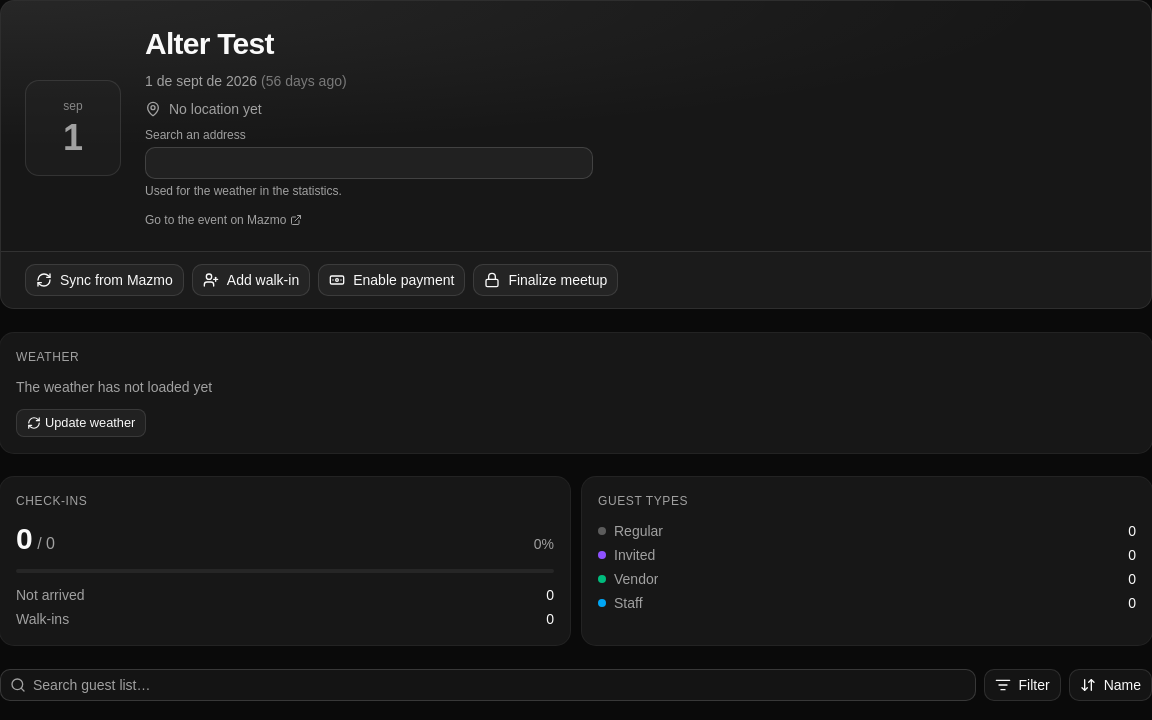
Scenario: MeetupDetailPage walk-in picker › searches the directory the same way as the Guests page
The width and height of the screenshot is (1152, 720).
Click the button "Add walk-in" at coordinates (251, 280), box [192, 264, 310, 296]
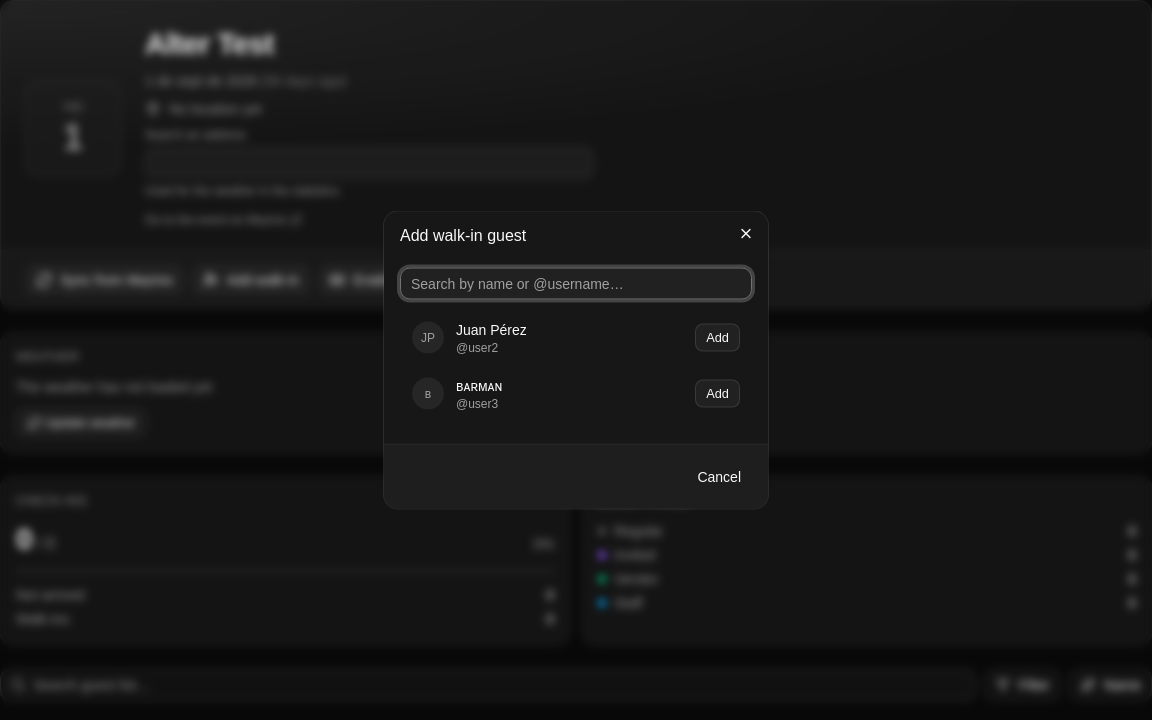
Check: the text "ʙᴀʀᴍᴀɴ" is shown, box [456, 376, 502, 396]
Type "perez" into the field at coordinates (576, 284), box [400, 268, 752, 300]
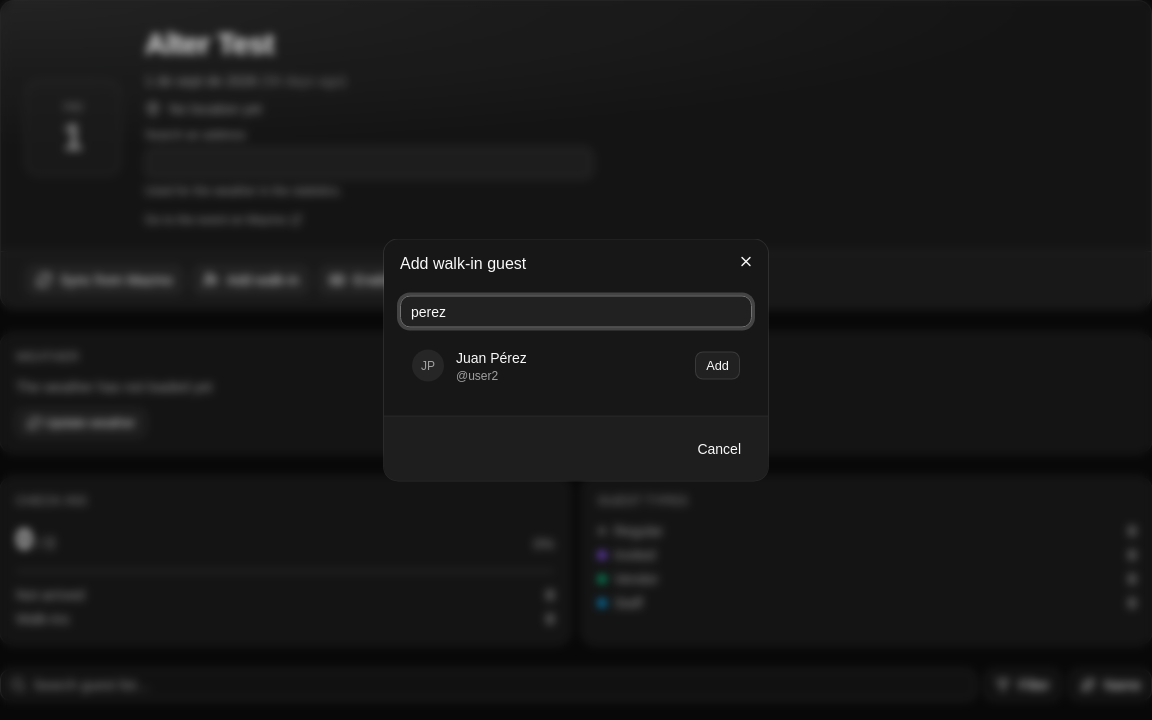
Check: the text "Juan Pérez" is shown, box [456, 348, 527, 368]
Check: the text "ʙᴀʀᴍᴀɴ" is gone
